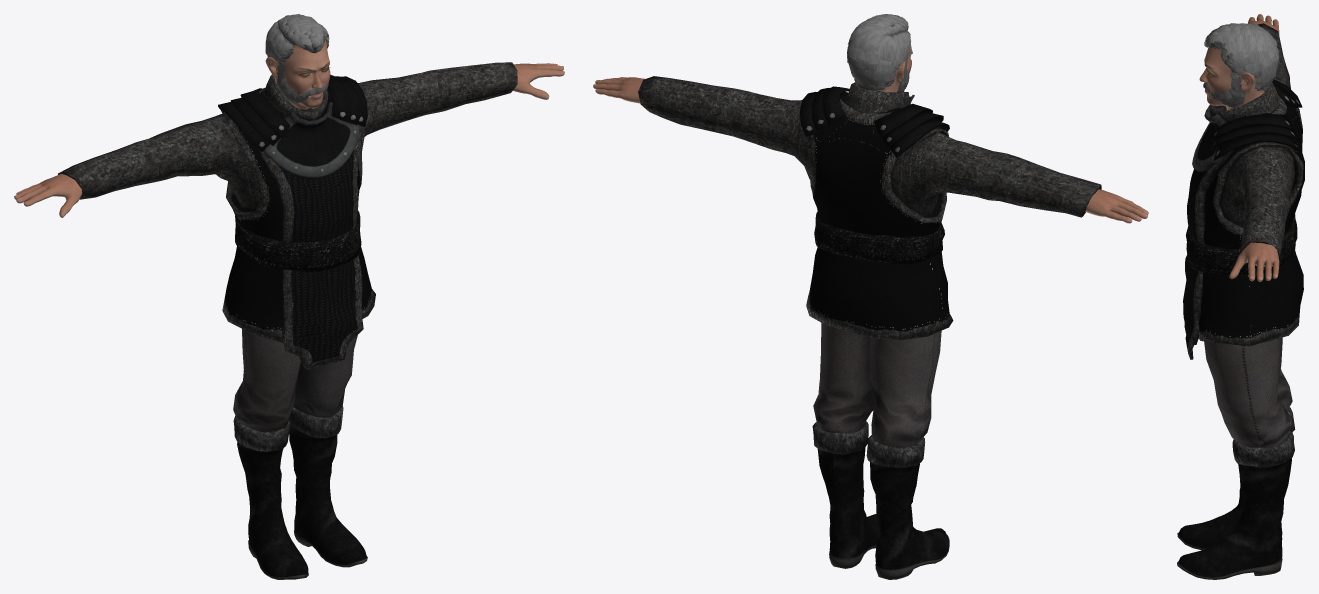
The model's file is bandit2.obj.
3 views of the same model, side by side, from view 1: azimuth 30°, elevation 25°; view 2: azimuth 150°, elevation 25°; view 3: azimuth 270°, elevation 25° (orthographic).
Visible parts, largest first — view 1: Tops, Shoes, Bottoms, Body, Hair; view 2: Tops, Shoes, Bottoms, Hair, Body; view 3: Tops, Shoes, Bottoms, Body, Hair, Beards.
Boxes of the visible parts, x1,y1,x2,y2 form: Tops: (58, 62, 517, 369); Shoes: (233, 406, 367, 579); Bottoms: (233, 329, 357, 432); Body: (14, 40, 564, 217); Hair: (265, 14, 329, 71); Tops: (638, 76, 1101, 339); Shoes: (812, 421, 949, 579); Bottoms: (813, 323, 941, 447); Hair: (847, 14, 911, 90); Body: (593, 35, 1148, 223); Tops: (1183, 23, 1304, 359); Shoes: (1177, 407, 1295, 579); Bottoms: (1204, 337, 1292, 447); Body: (1199, 14, 1279, 281); Hair: (1204, 23, 1279, 91); Beards: (1213, 76, 1245, 107).
Bounding box in the file's own units: 194 × 182 × 39.68.
7 materials, 7 textured.
